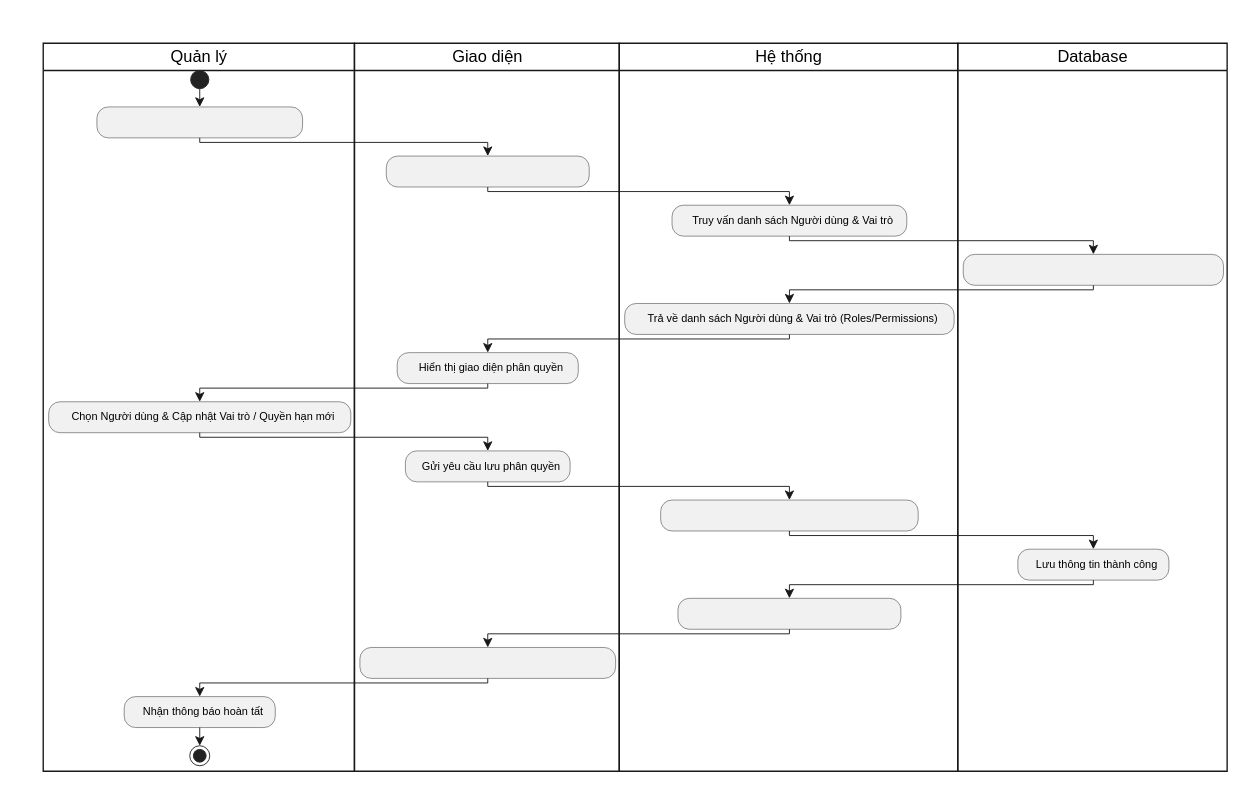
Image size: 1243x787. Some labels were removed from this diagram. The centre of each missing label's shape, as x and y in pixels:
Cập nhật thông tin phân quyền vào Database: (789,515)
Gửi yêu cầu lấy dữ liệu phân quyền: (487,171)
Hiển thị thông báo "Phân quyền thành công": (487,662)
Truy cập trang Quản lý phân quyền: (199,122)
Trả về dữ liệu danh sách Người dùng & Vai trò: (1093,269)
Trả về kết quả phân quyền thành công: (789,613)
